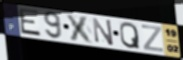9: (43, 11, 63, 41)
E: (17, 7, 42, 37)
N: (91, 17, 115, 47)
Q: (119, 21, 142, 50)
X: (65, 13, 95, 45)
Z: (140, 24, 164, 54)
